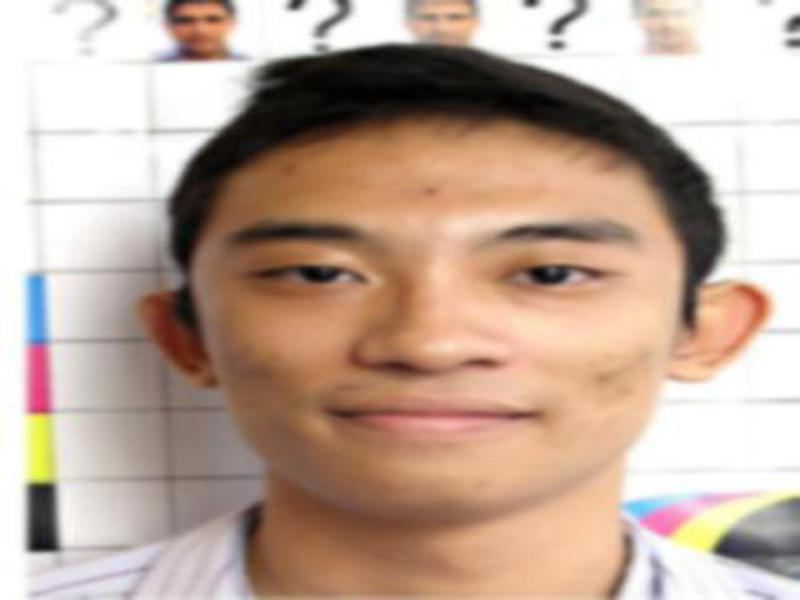without_mask: (194, 165, 677, 518)
